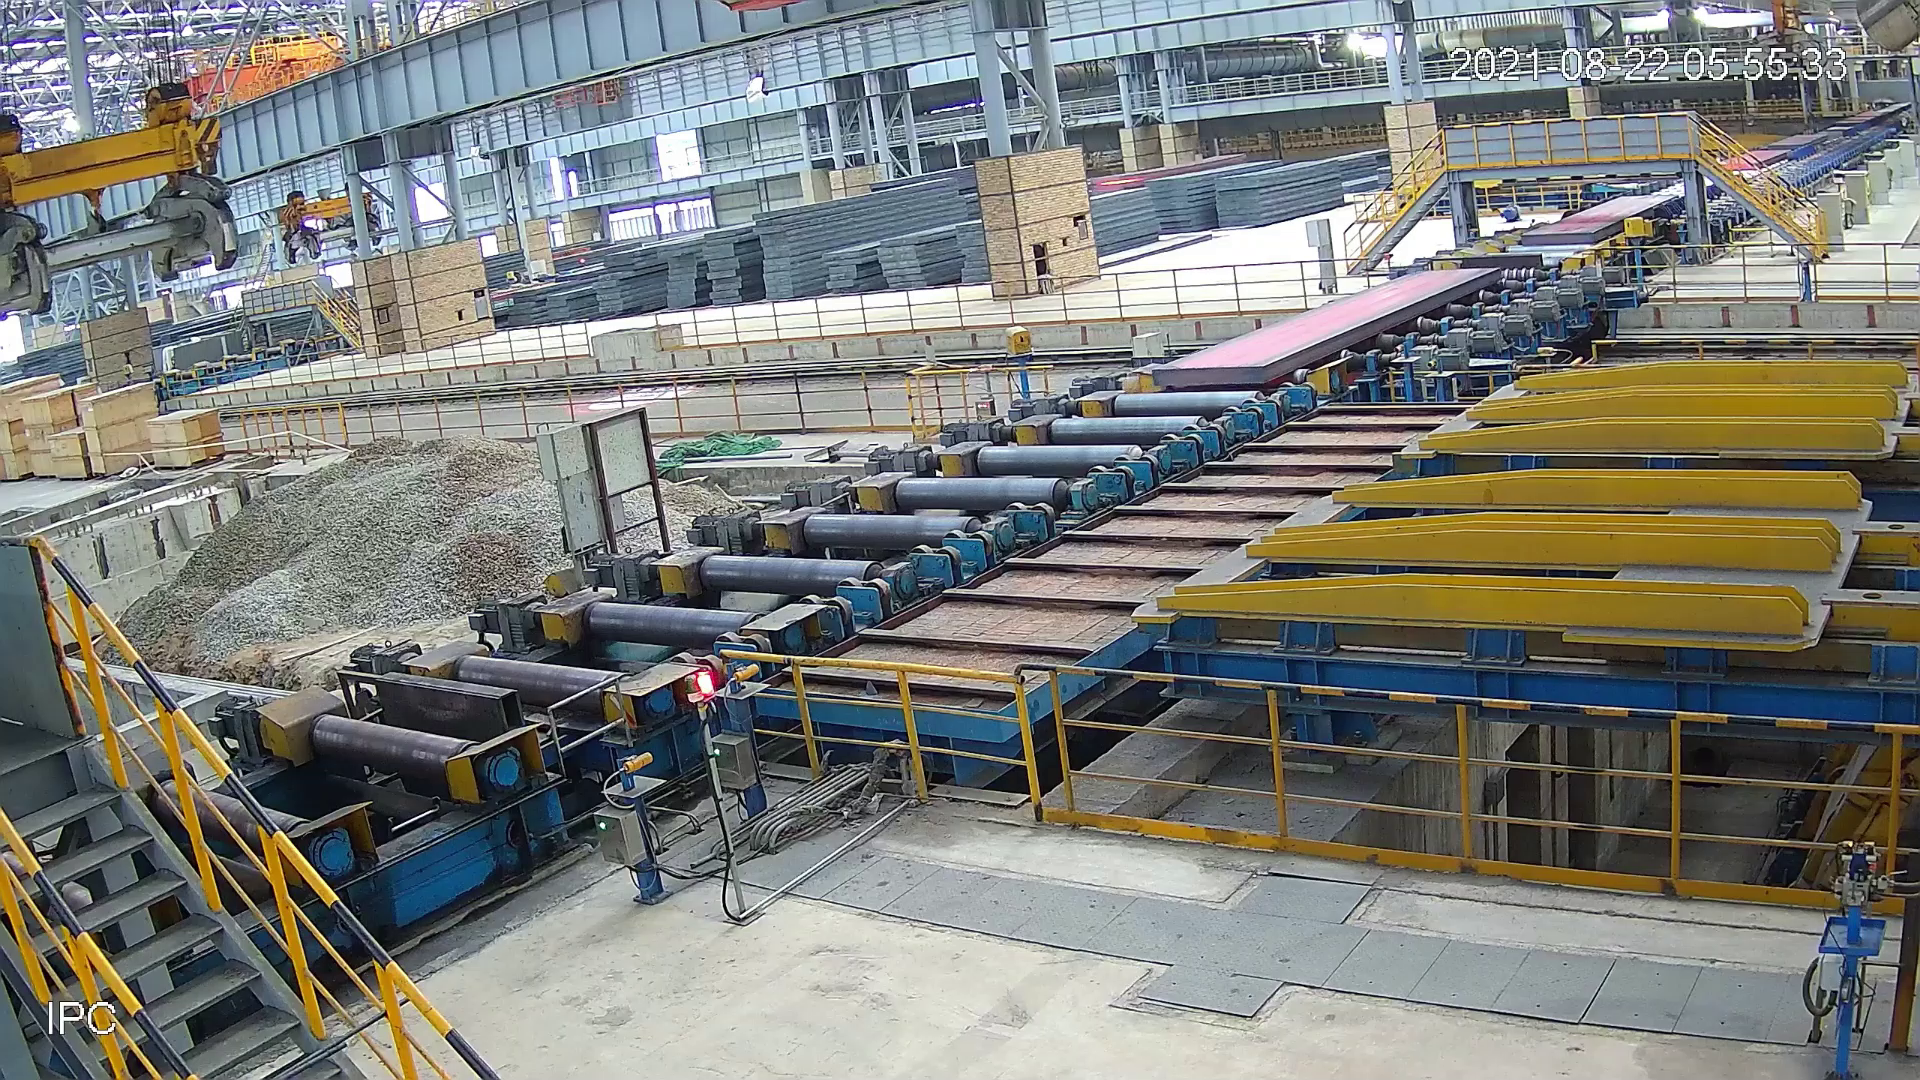slab: (1143, 260, 1507, 394), (1515, 189, 1683, 251)
